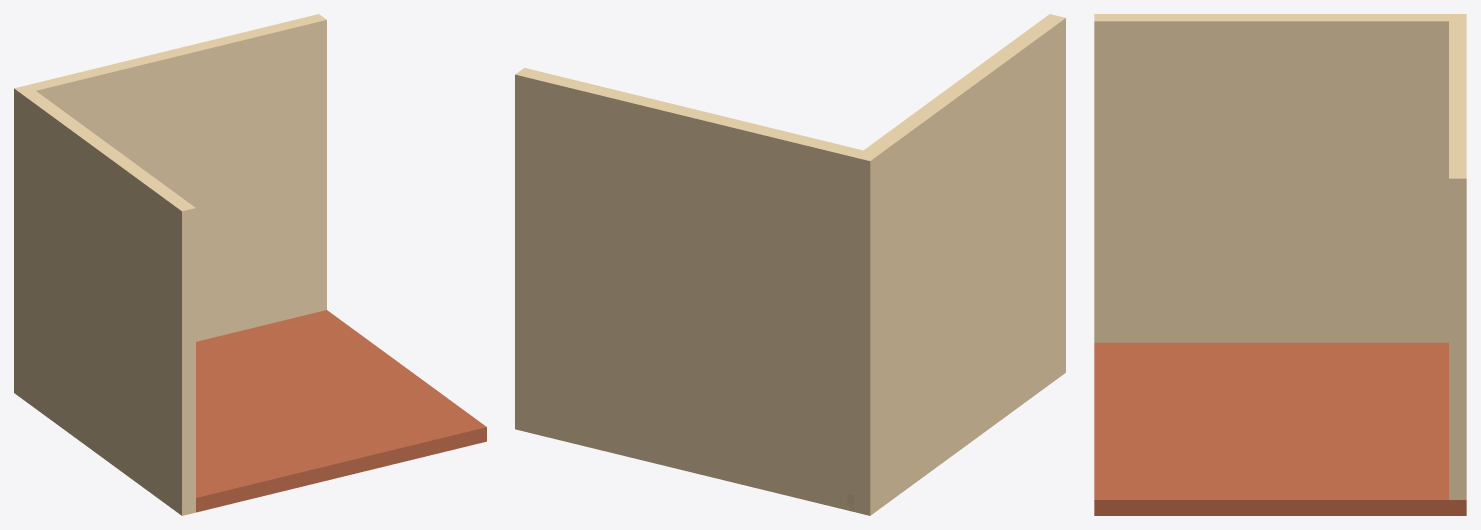
The model's file is room_wood.glb.
The picture shows the model from 3 angles, left to right: view 1: azimuth 30°, elevation 25°; view 2: azimuth 150°, elevation 25°; view 3: azimuth 270°, elevation 25°; orthographic projection. The views are drawn at different scales.
Parts seen in each view (by area): view 1: wall, wall002, Object001; view 2: wall002, wall; view 3: wall, Object001, wall002.
Boxes of the visible parts, x1=… form: wall: x1=14, y1=85, x2=195, y2=515; wall002: x1=28, y1=14, x2=326, y2=341; Object001: x1=196, y1=310, x2=486, y2=512; wall002: x1=515, y1=68, x2=862, y2=511; wall: x1=854, y1=14, x2=1065, y2=515; wall: x1=1094, y1=14, x2=1466, y2=342; Object001: x1=1094, y1=342, x2=1466, y2=515; wall002: x1=1449, y1=21, x2=1466, y2=499.
Size of the model in its own units: 0.44 by 0.42 by 0.42.
Materials: 1 (1 with a texture image).
